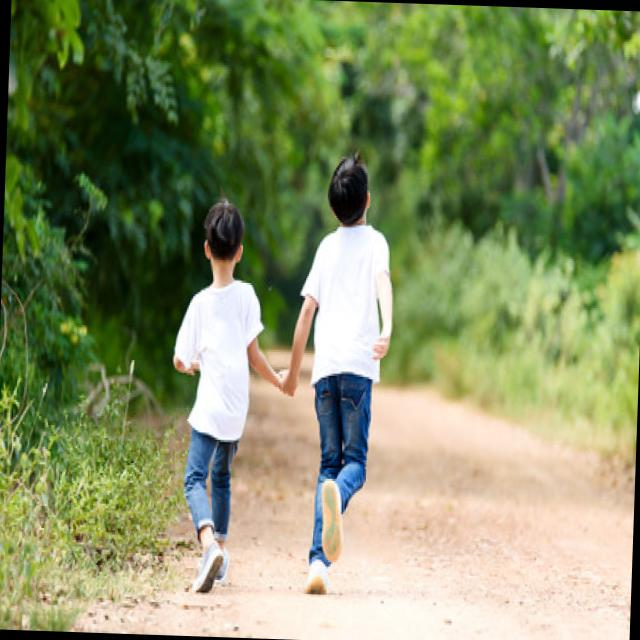Person: (274, 154, 398, 596), (166, 198, 290, 594)
